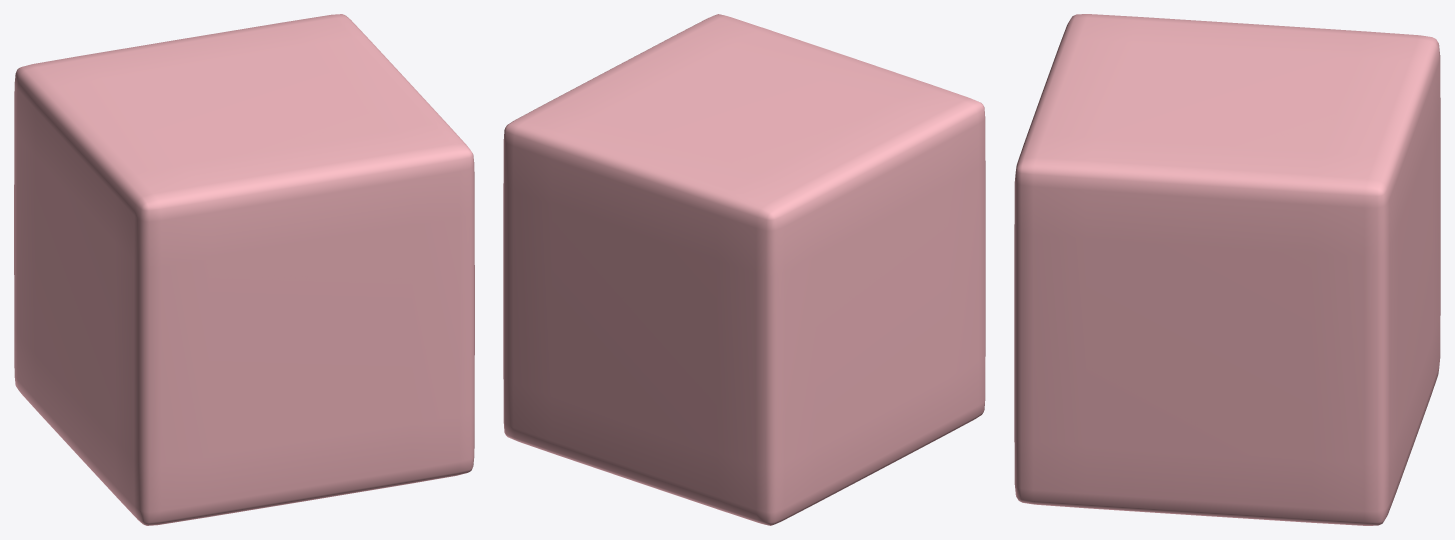
Rendered from PROP_Frisbee_v0.glb.
3 views of the same model, side by side, from view 1: azimuth 30°, elevation 25°; view 2: azimuth 150°, elevation 25°; view 3: azimuth 270°, elevation 25° (orthographic). The views are drawn at different scales.
Visible parts, largest first — view 1: PROP_Frisbee_v0; view 2: PROP_Frisbee_v0; view 3: PROP_Frisbee_v0.
Boxes of the visible parts, left/top/right/bottom form: PROP_Frisbee_v0: left=14, top=14, right=474, bottom=525; PROP_Frisbee_v0: left=503, top=14, right=985, bottom=525; PROP_Frisbee_v0: left=1014, top=14, right=1440, bottom=525.
Bounding box in the file's own units: 1.12 × 0.9997 × 1.12.
